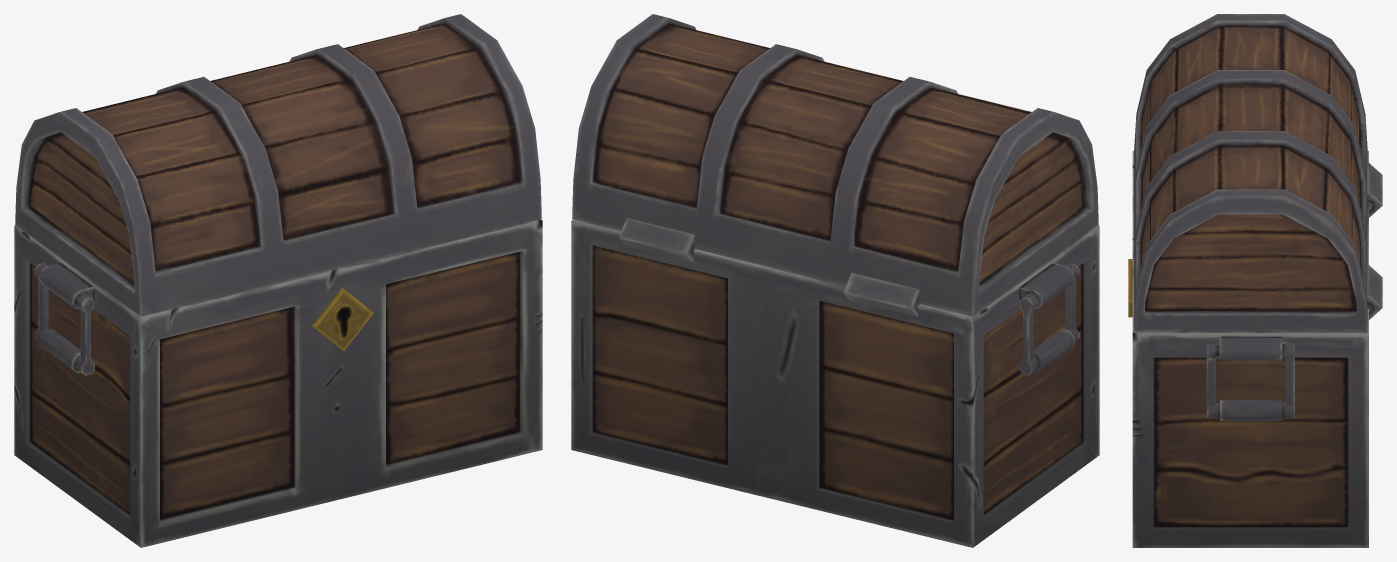
Rendered from scene-scaled.gltf.
The picture shows the model from 3 angles, left to right: view 1: azimuth 30°, elevation 25°; view 2: azimuth 150°, elevation 25°; view 3: azimuth 270°, elevation 25°; orthographic projection. The views are drawn at different scales.
Parts seen in each view (by area): view 1: Object_9; view 2: Object_9; view 3: Object_9.
Boxes of the visible parts, x1=… form: Object_9: x1=14, y1=14, x2=542, y2=547; Object_9: x1=571, y1=14, x2=1099, y2=547; Object_9: x1=1128, y1=14, x2=1382, y2=547.
Size of the model in its own units: 2.03 by 1.64 by 1.08.
1 material, 1 textured.
